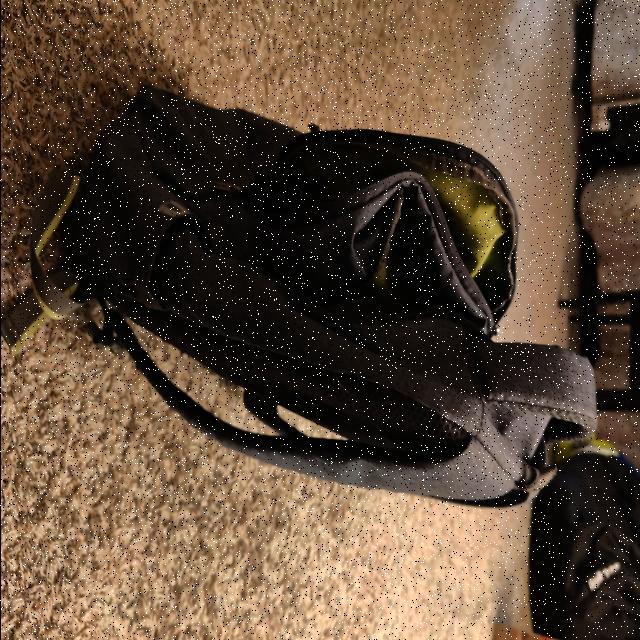bag: (71, 109, 534, 425)
